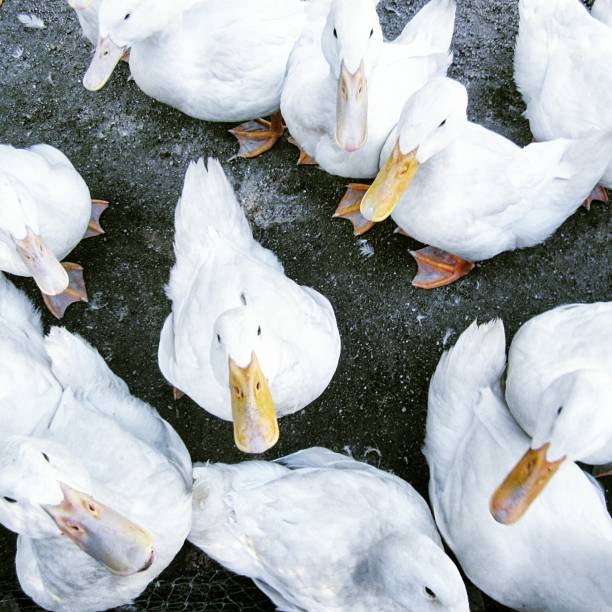goose: (153, 147, 349, 458), (355, 77, 612, 283), (1, 372, 186, 612), (67, 1, 283, 167), (274, 3, 453, 189), (494, 290, 612, 536), (1, 142, 113, 319)
